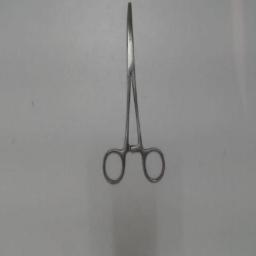Crile Artery Forceps: (99, 2, 169, 186)
